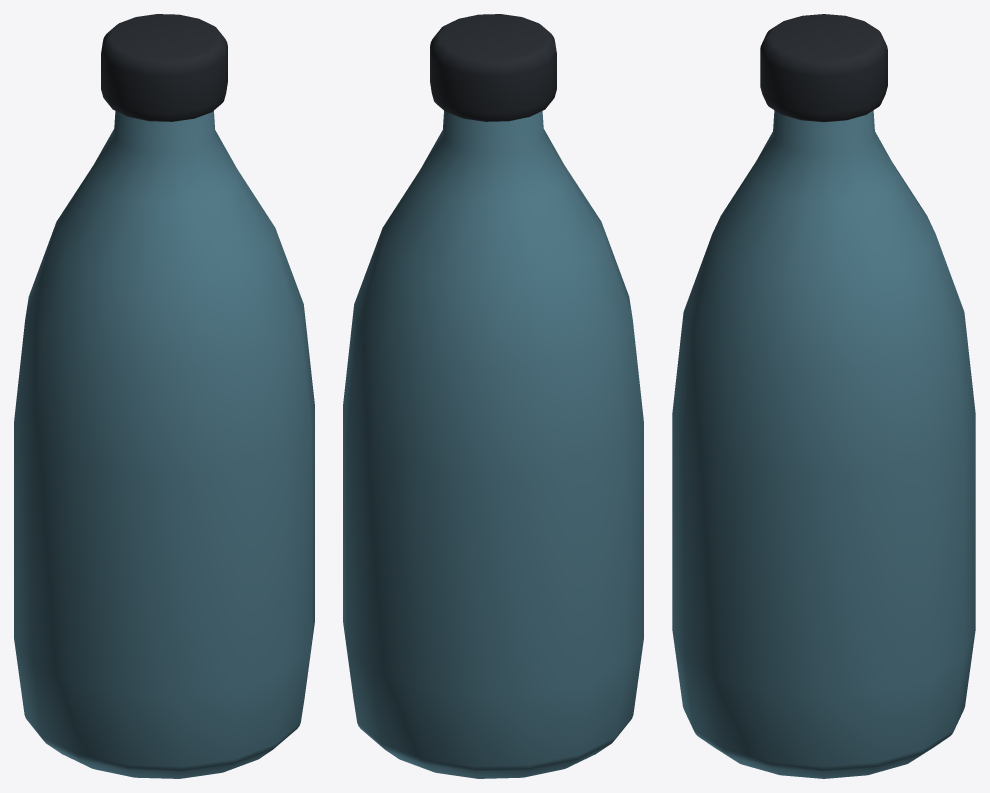
File: Bottle_Brandy.fbx
3 views of the same model, side by side, from view 1: azimuth 30°, elevation 25°; view 2: azimuth 150°, elevation 25°; view 3: azimuth 270°, elevation 25° (orthographic).
Parts seen in each view (by area): view 1: Brandy_Glass, Brandy_Cap; view 2: Brandy_Glass, Brandy_Cap; view 3: Brandy_Glass, Brandy_Cap.
Part boxes in pixels (left/top/right/bottom): Brandy_Glass: left=14, top=111, right=314, bottom=778; Brandy_Cap: left=101, top=14, right=227, bottom=121; Brandy_Glass: left=343, top=111, right=643, bottom=778; Brandy_Cap: left=430, top=14, right=556, bottom=121; Brandy_Glass: left=672, top=110, right=975, bottom=778; Brandy_Cap: left=760, top=14, right=887, bottom=122.
Bounding box in the file's own units: 0.095 × 0.24 × 0.095.
